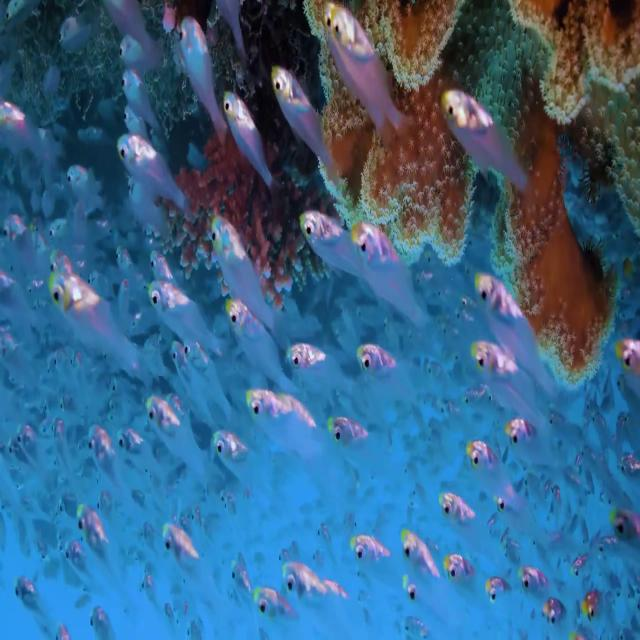fish: (320, 2, 404, 131), (52, 266, 142, 380), (243, 391, 331, 501), (474, 277, 554, 393), (300, 212, 402, 298), (444, 88, 526, 192), (353, 227, 429, 329), (272, 73, 342, 182), (176, 19, 230, 142), (211, 212, 271, 322), (115, 138, 187, 226), (472, 342, 554, 418), (232, 303, 300, 389), (147, 285, 225, 357), (357, 348, 443, 408), (222, 94, 272, 183)
